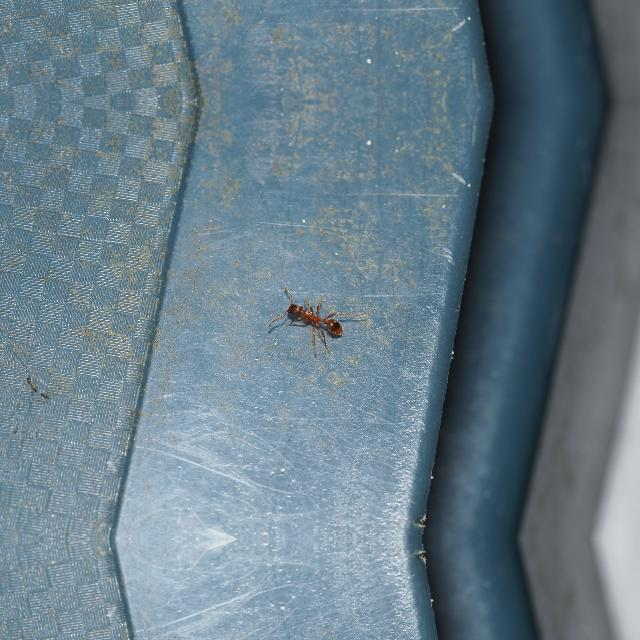Myrmica: (272, 290, 358, 344)
